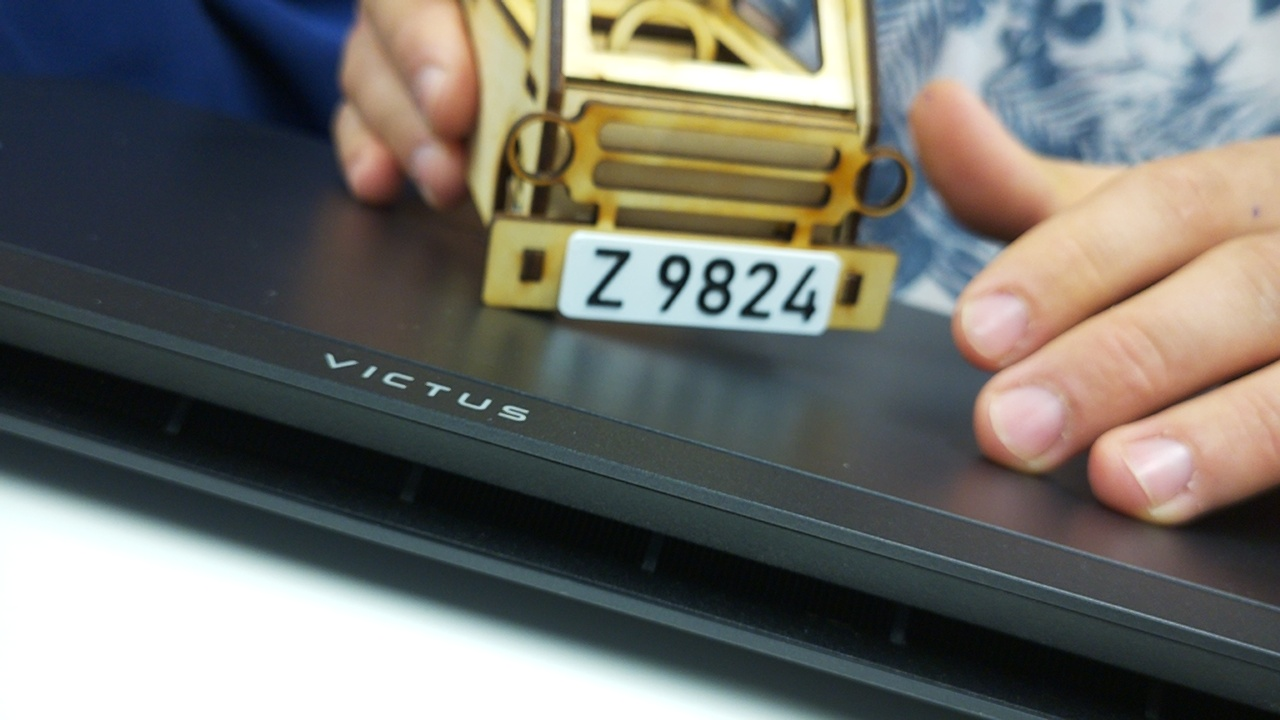license_plate: (555, 226, 844, 339)
